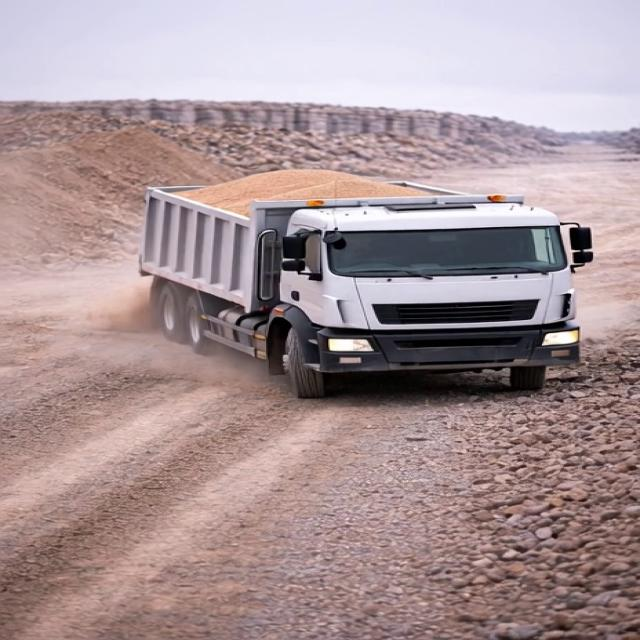Box: (139, 167, 527, 215)
Truck: (126, 161, 596, 398)
